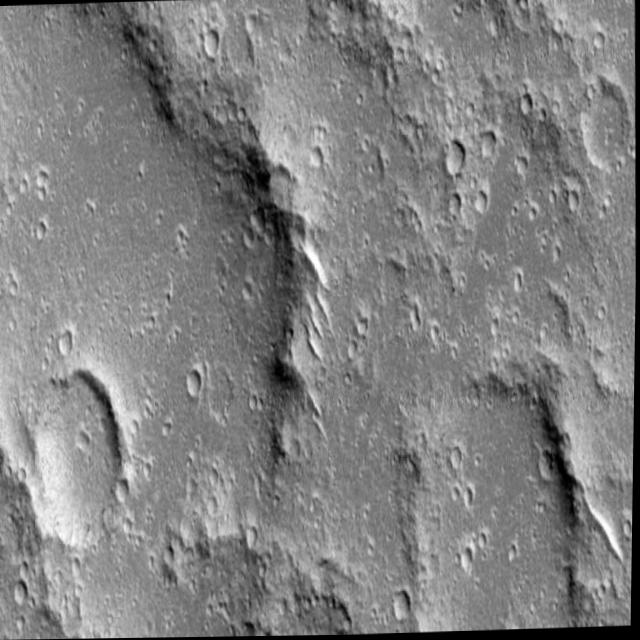Crater: (372, 331, 612, 635), (12, 335, 136, 565)
